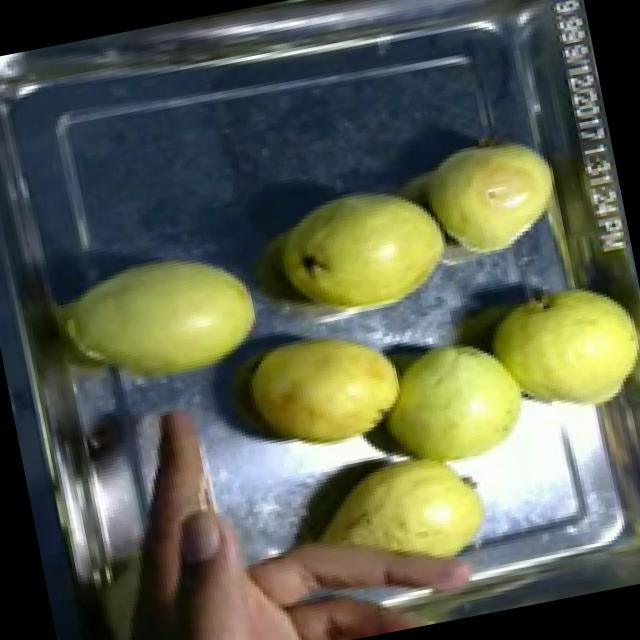Fruit: (209, 417, 525, 640), (52, 231, 280, 409), (344, 327, 551, 506), (258, 166, 467, 340), (224, 312, 422, 476), (460, 271, 640, 444), (410, 118, 576, 274)
